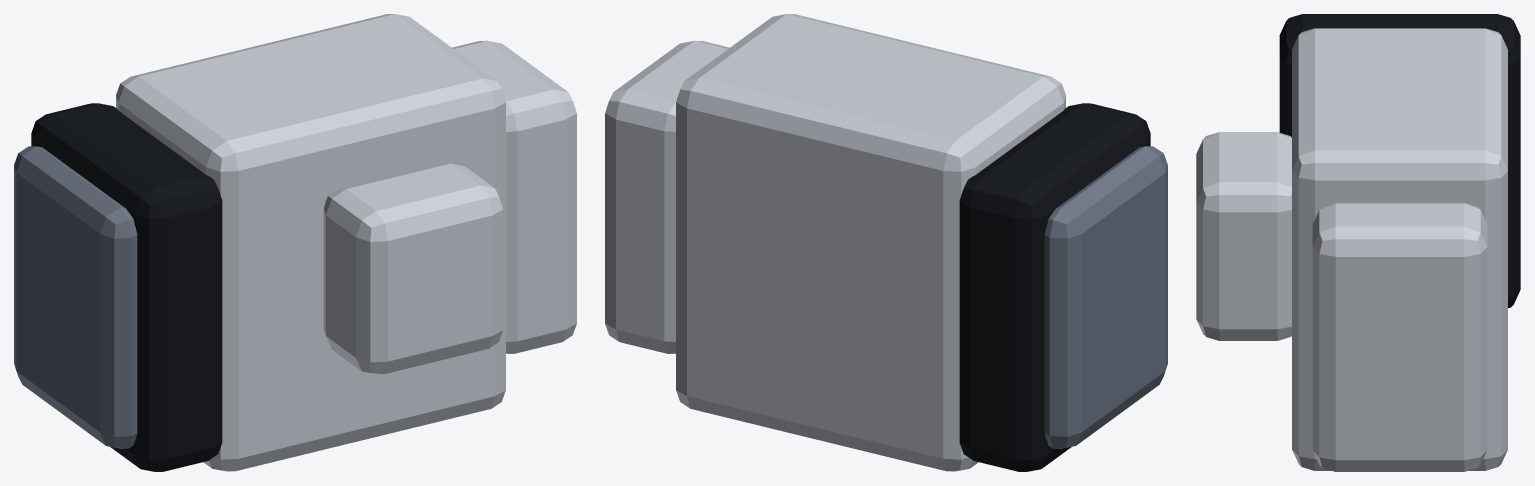
File: avatar-hand-r.glb
3 views of the same model, side by side, from view 1: azimuth 30°, elevation 25°; view 2: azimuth 150°, elevation 25°; view 3: azimuth 270°, elevation 25° (orthographic). The views are drawn at different scales.
Visible parts, largest first — view 1: avatar-hand-r; view 2: avatar-hand-r; view 3: avatar-hand-r.
Boxes of the visible parts, x1,y1,x2,y2 form: avatar-hand-r: (14,14,576,471); avatar-hand-r: (605,14,1167,471); avatar-hand-r: (1196,14,1520,471).
Size of the model in its own units: 0.26 by 0.17 by 0.156.
